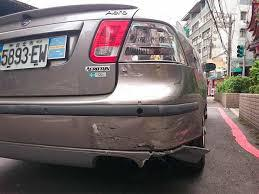rear-bumper-dent: (82, 102, 203, 177)
